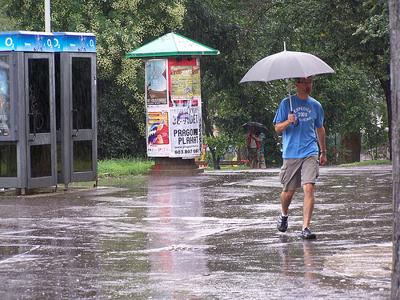person: (274, 76, 327, 240)
